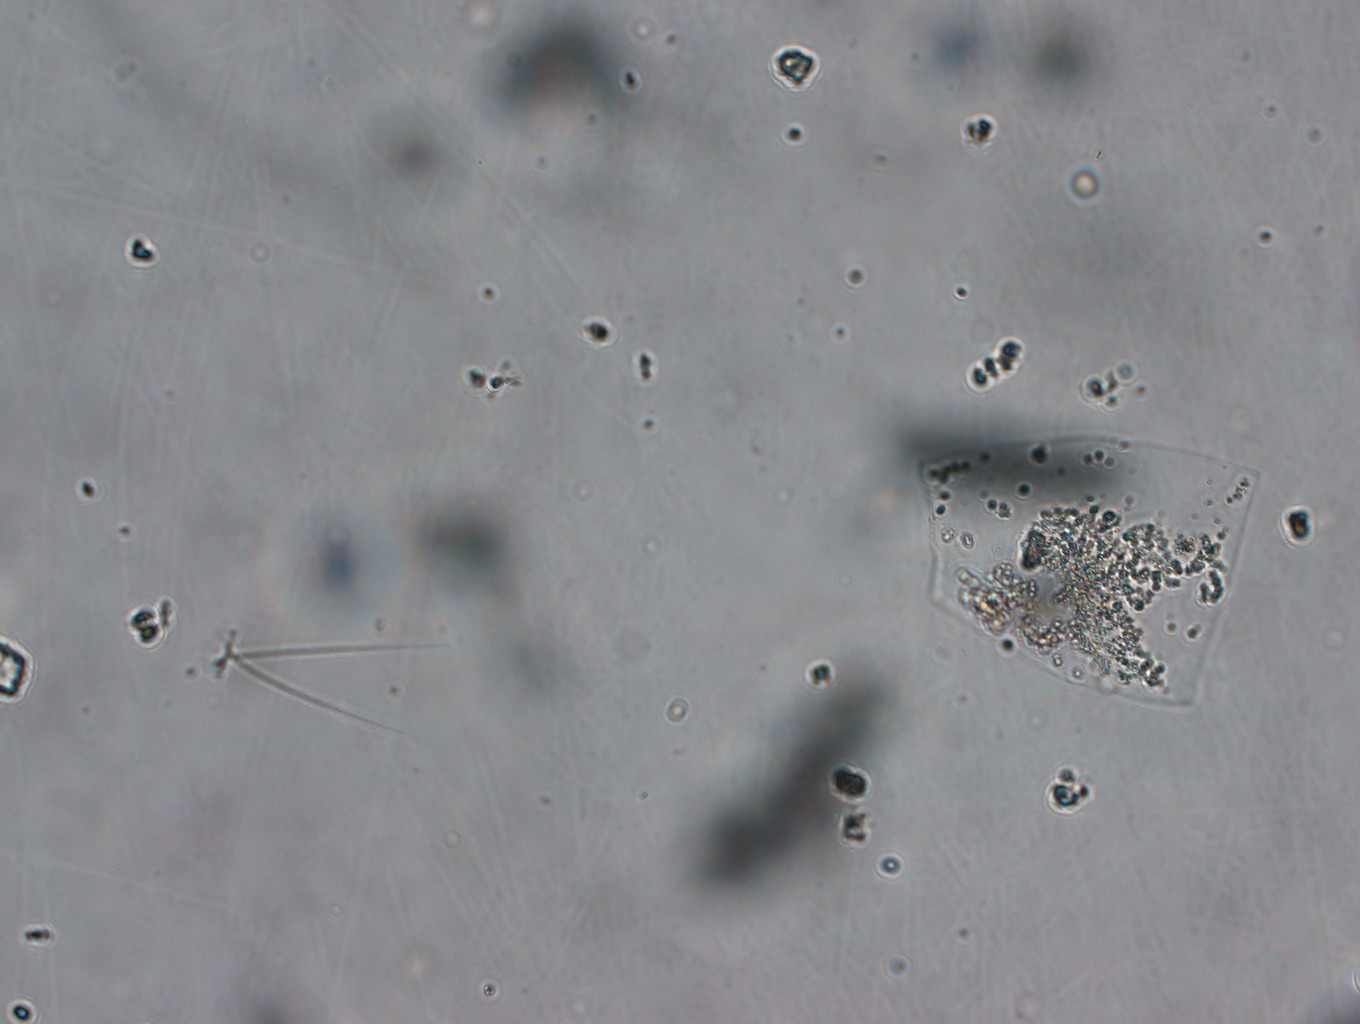helicotheca: (894, 418, 1266, 722)
